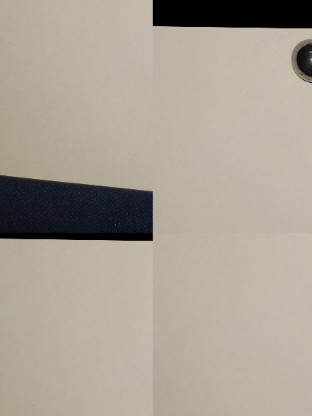ironball: (287, 34, 311, 83)
